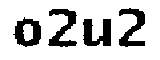2: (46, 2, 81, 51), (118, 6, 148, 49)
o: (10, 16, 44, 49)
u: (82, 17, 114, 52)
